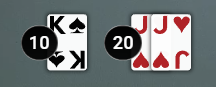j: (128, 13, 151, 38), (152, 13, 171, 38)
k: (46, 13, 69, 38)
